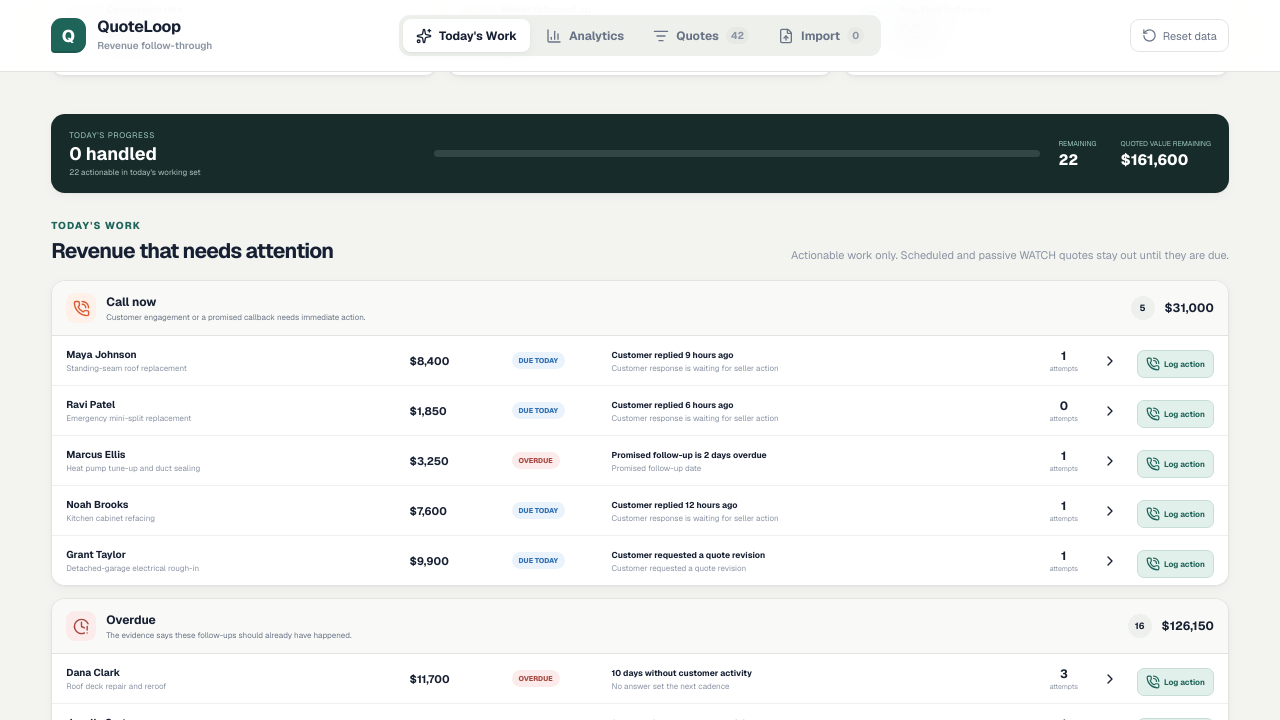
QuoteLoop central workflow › opens a prioritized quote, explains it, logs a follow-up, and removes answered urgency
This screenshot has width=1280, height=720.
(page scrolled)
Expected: the heading "Revenue that needs attention" is shown, [51,237,333,264]
Click the button with aria-label "Open quote for Maya Johnson" at coordinates (640, 361), box [52,336,1228,385]
(page scrolled)
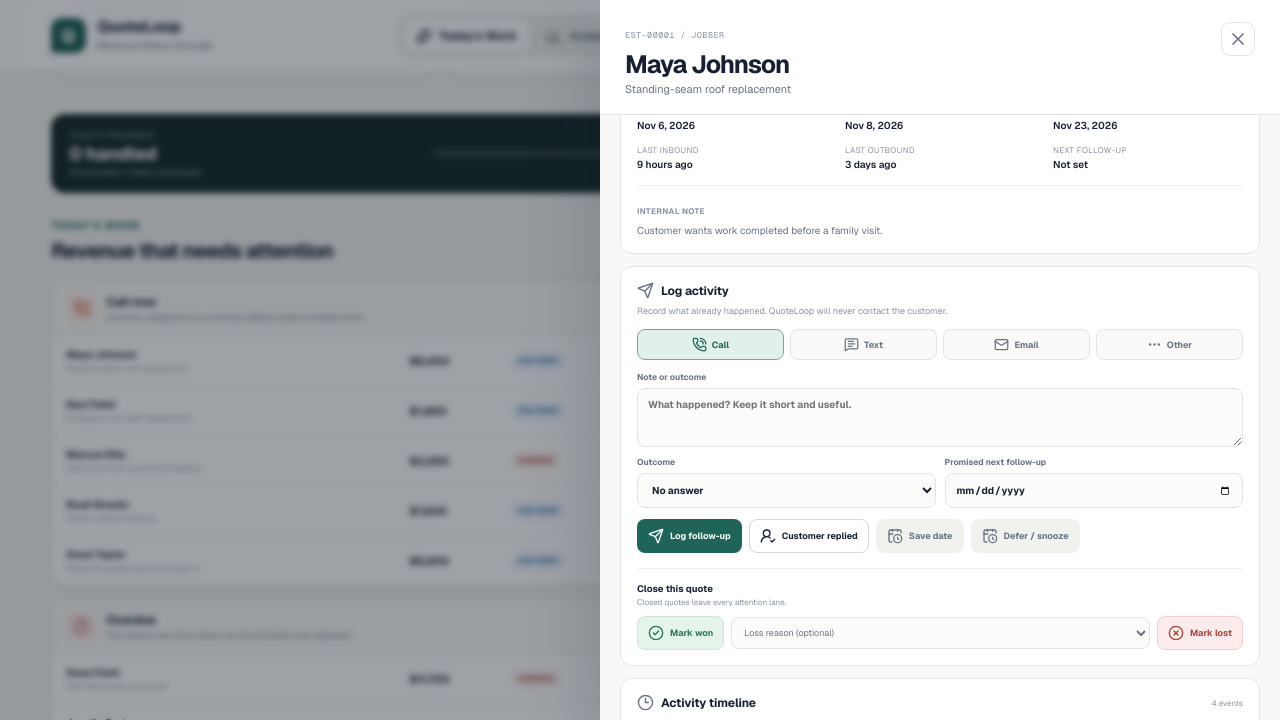
Type "Confirmed installation availability" into the text box with placeholder "What happened? Keep it short and useful." at coordinates (940, 418), box [637,388,1243,447]
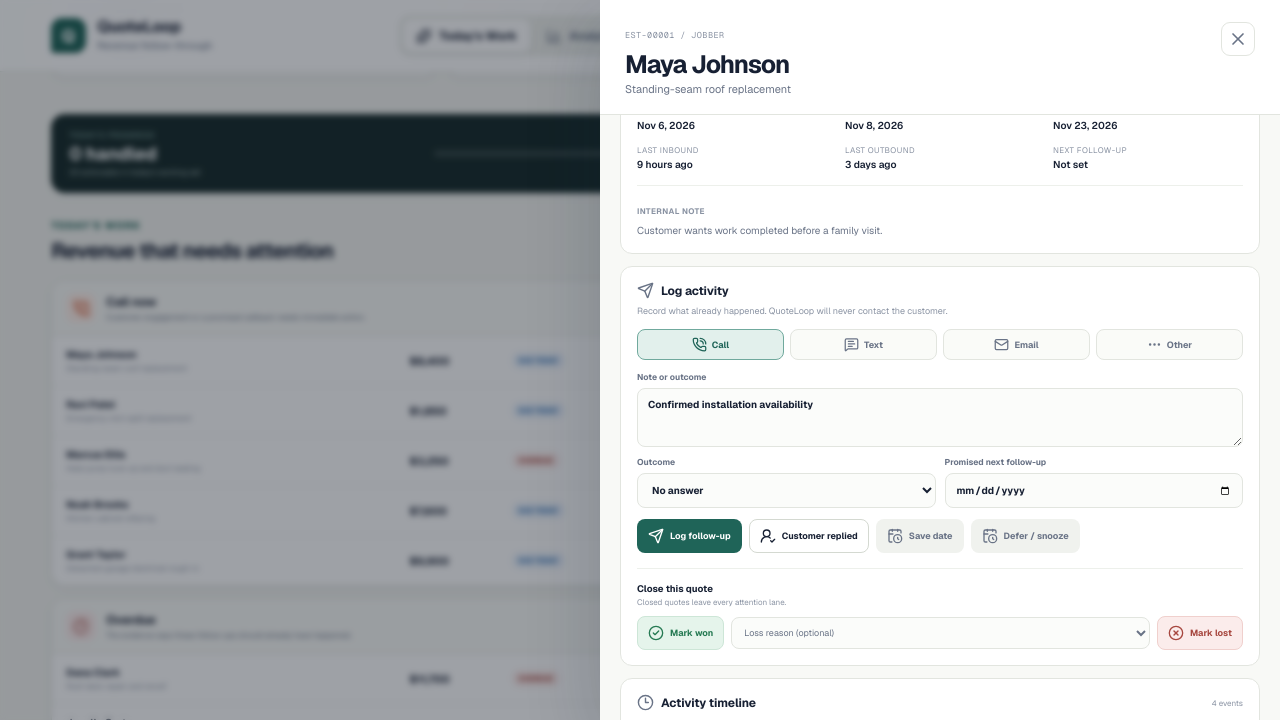
Click the button "Log follow-up" at coordinates (689, 536), box [637,519,742,553]
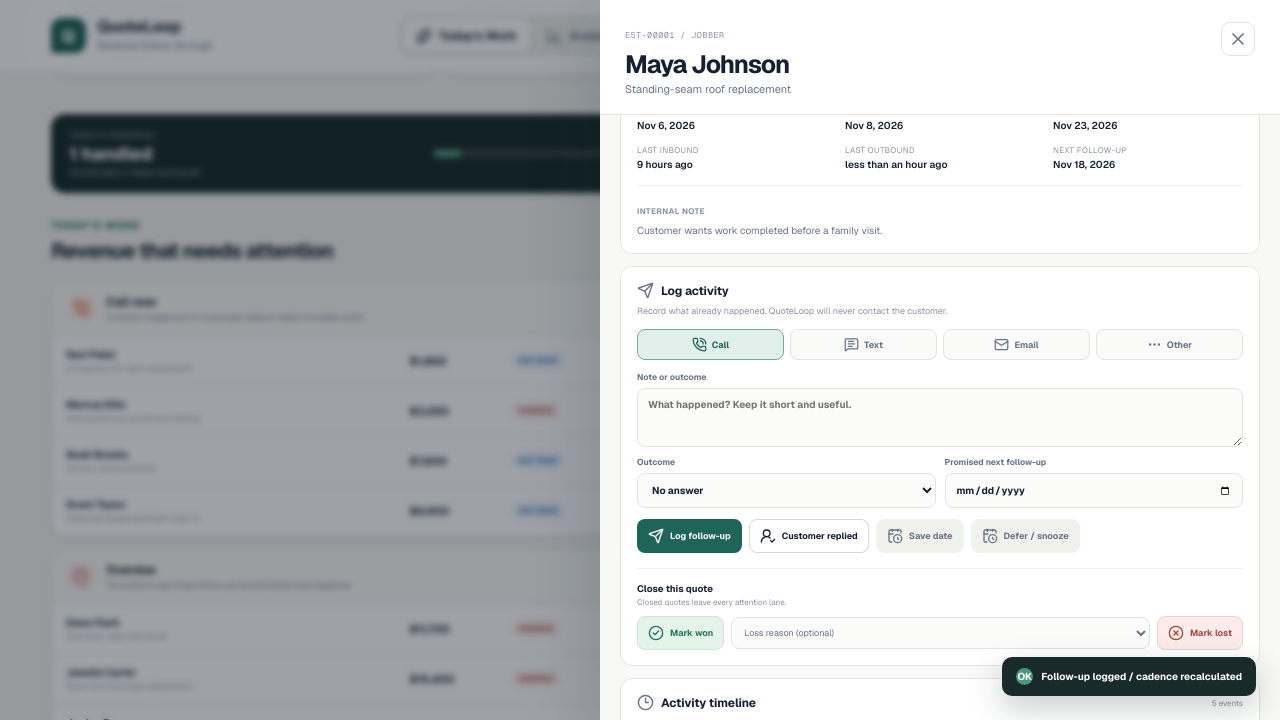
Result: the message shows "Follow-up logged" at [1041,670,1242,683]
